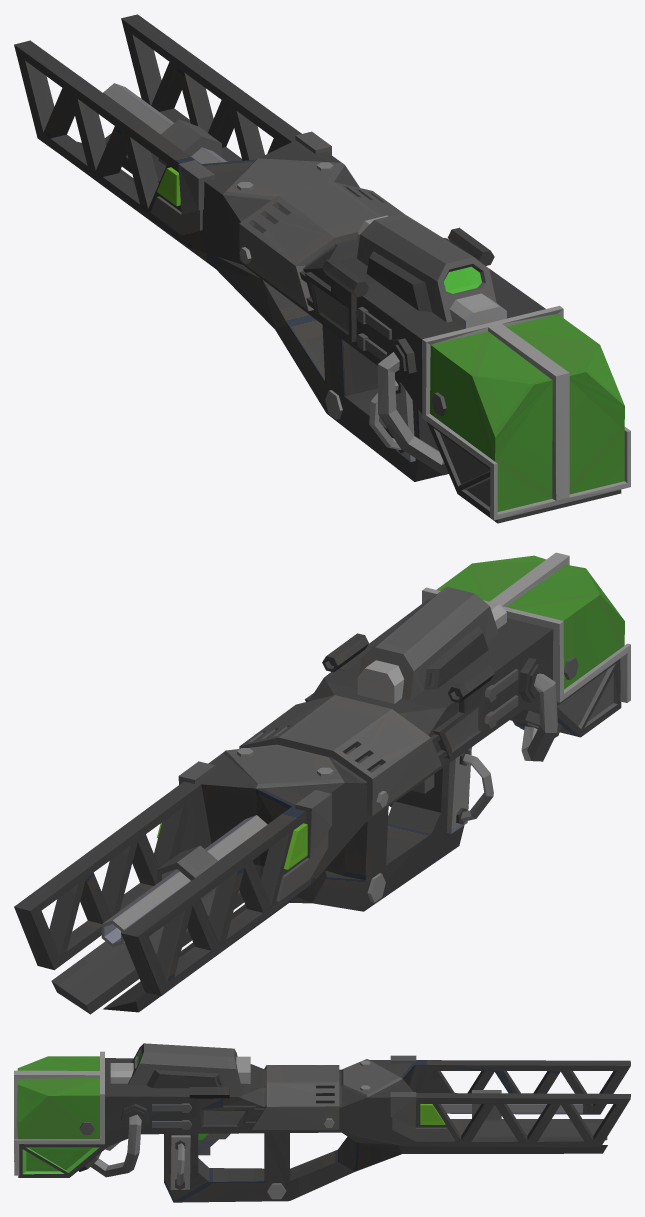
Rendered from sniper_0.glb.
The picture shows the model from 3 angles, top to bottom: view 1: azimuth 30°, elevation 25°; view 2: azimuth 150°, elevation 25°; view 3: azimuth 270°, elevation 25°; orthographic projection. The views are drawn at different scales.
Parts seen in each view (by area): view 1: sniper_0; view 2: sniper_0; view 3: sniper_0.
Part boxes in pixels (x1=…): sniper_0: x1=14, y1=14, x2=630, y2=523; sniper_0: x1=14, y1=552, x2=630, y2=1014; sniper_0: x1=14, y1=1043, x2=630, y2=1202.
Bounding box in the file's own units: 0.1941 × 0.2419 × 0.9151.
Materials: 1 (1 with a texture image).
